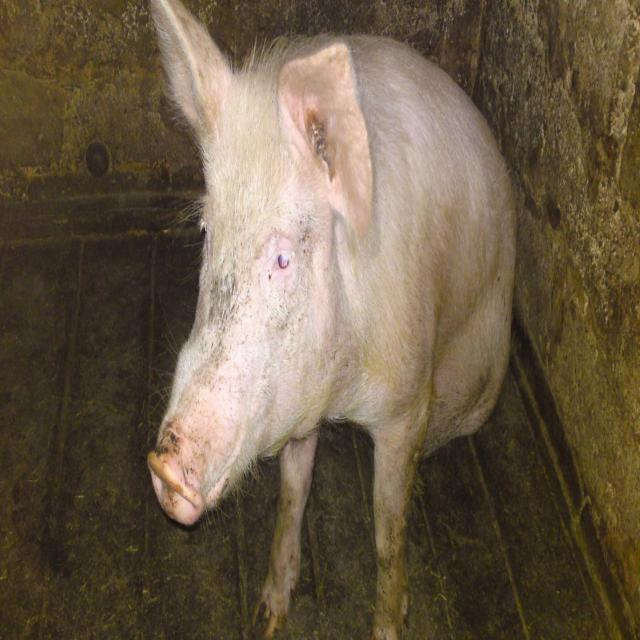pig: (146, 0, 522, 640)
